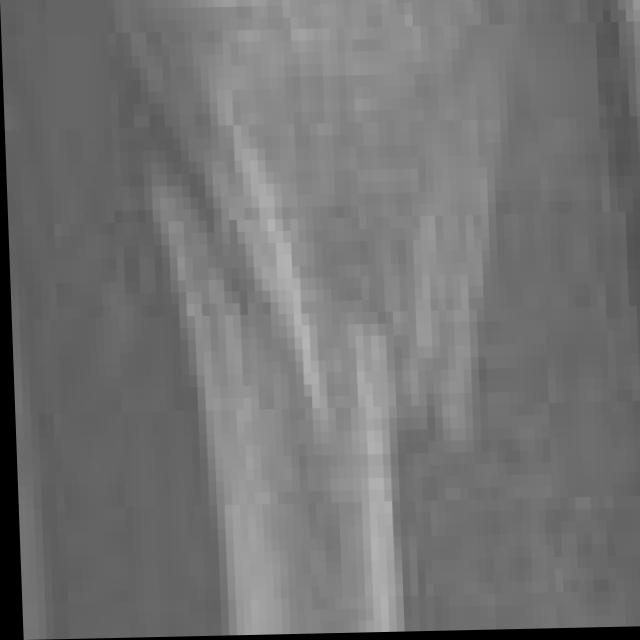fracture: (0, 1, 640, 632)
